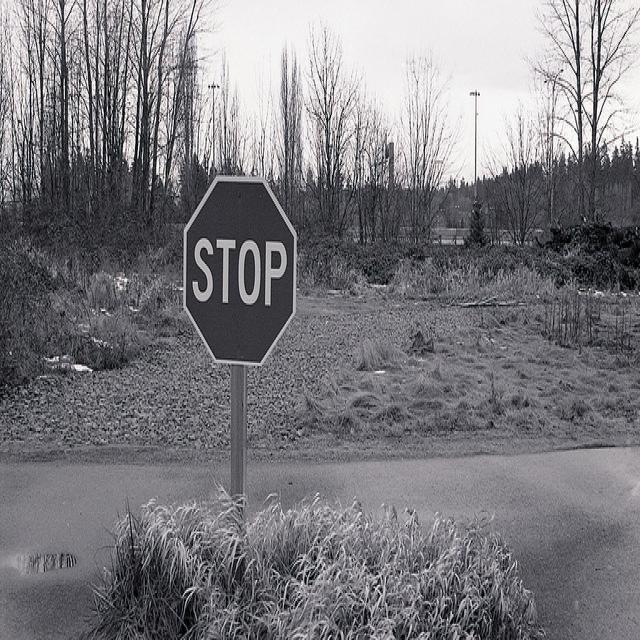pole: (227, 363, 249, 582)
